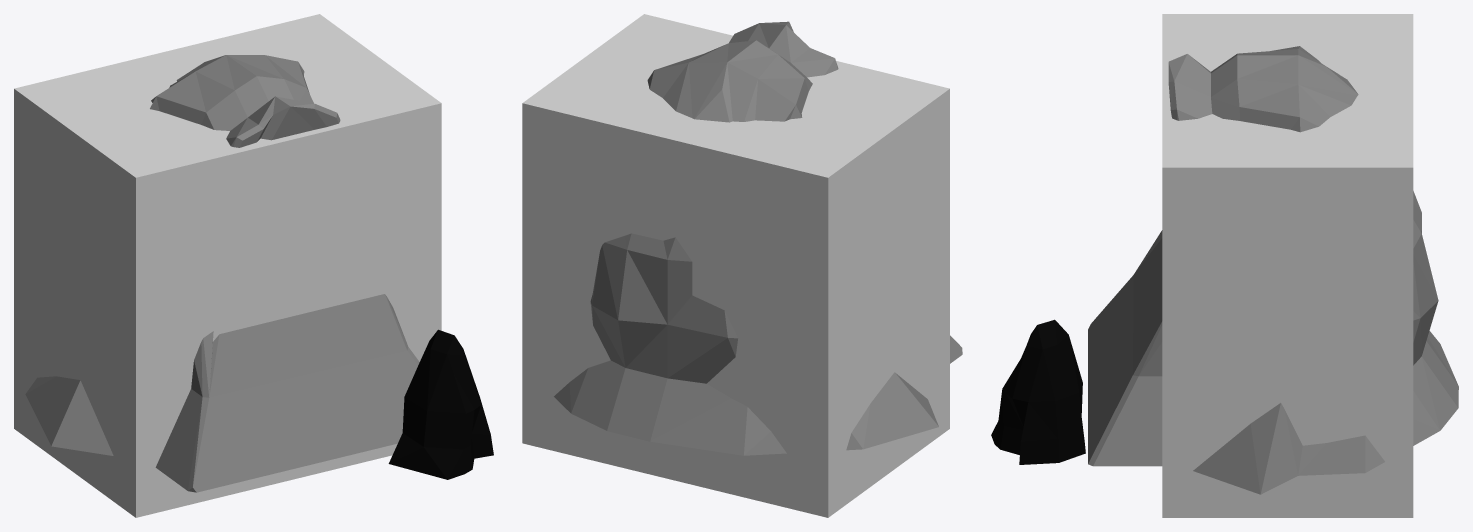
File: ruins_relic_1.glb
The picture shows the model from 3 angles, left to right: view 1: azimuth 30°, elevation 25°; view 2: azimuth 150°, elevation 25°; view 3: azimuth 270°, elevation 25°; orthographic projection. The views are drawn at different scales.
Parts seen in each view (by area): view 1: Cube, ruin_21; view 2: Cube, ruin_21; view 3: Cube, ruin_21.
Boxes of the visible parts, box(x1,y1,x2,y2) form: Cube: box(14, 14, 441, 517); ruin_21: box(25, 55, 493, 492); Cube: box(522, 14, 949, 517); ruin_21: box(554, 21, 962, 455); Cube: box(1162, 14, 1413, 517); ruin_21: box(991, 46, 1458, 494).
Bounding box in the file's own units: 2 × 1.84 × 2.01.
1 material, 1 textured.
